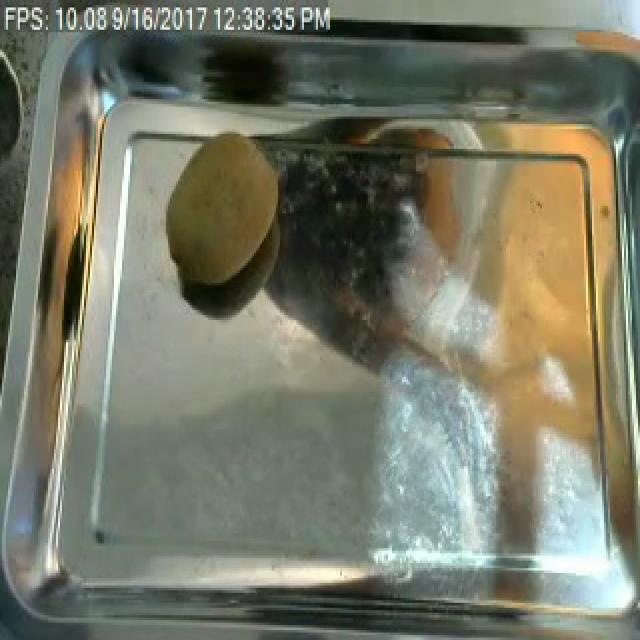Fruit: (156, 134, 298, 298)
